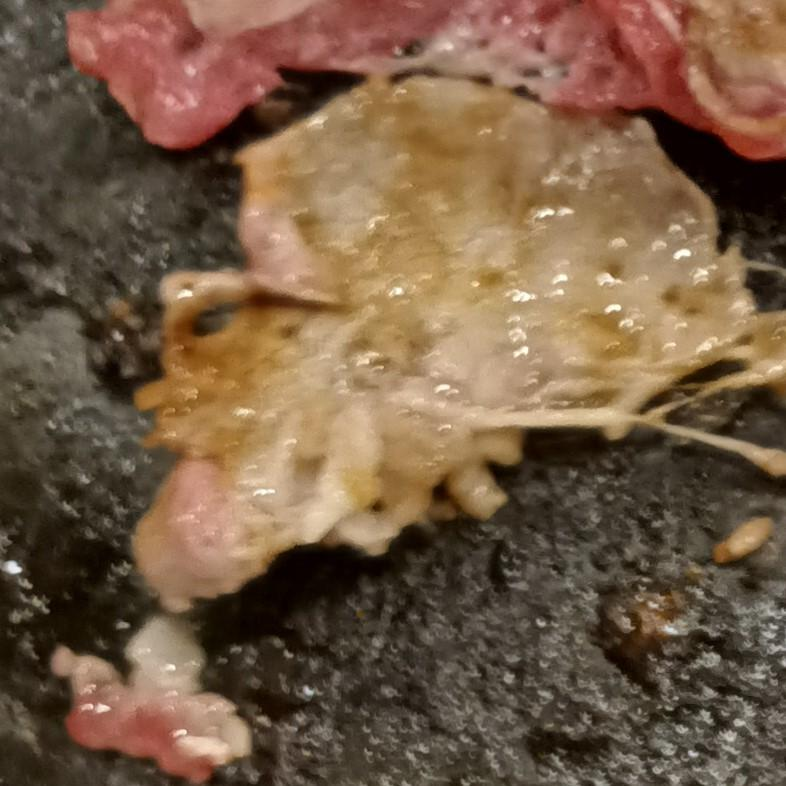Undercooked: (65, 0, 785, 162), (63, 654, 257, 785)
Well-Cooked: (132, 79, 785, 615)
